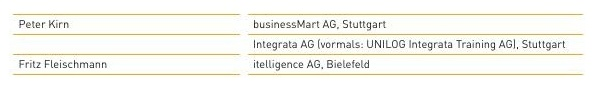table: (0, 0, 594, 89)
